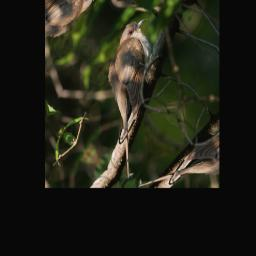Cuckoo: (64, 9, 201, 179)
